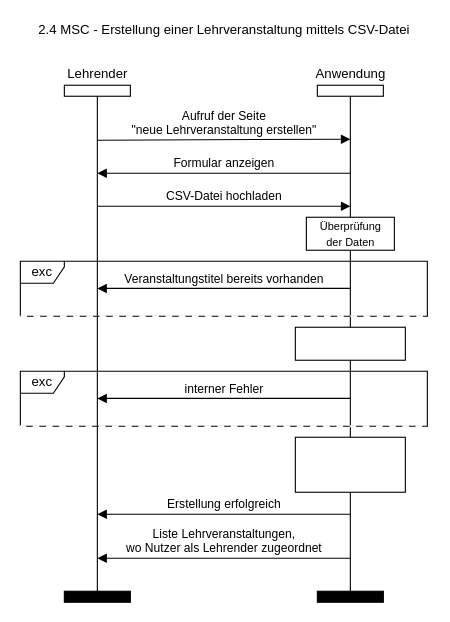
Image size: 450x622. Some labels were removed from this diagram. Here are the shapes that lost their labels. From the top down, the centre of each, then its label:
point 349,343: Erstellung der Lehrveranstaltung
point 349,464: Zuordnung des Lehrenden als "Lehrender"
